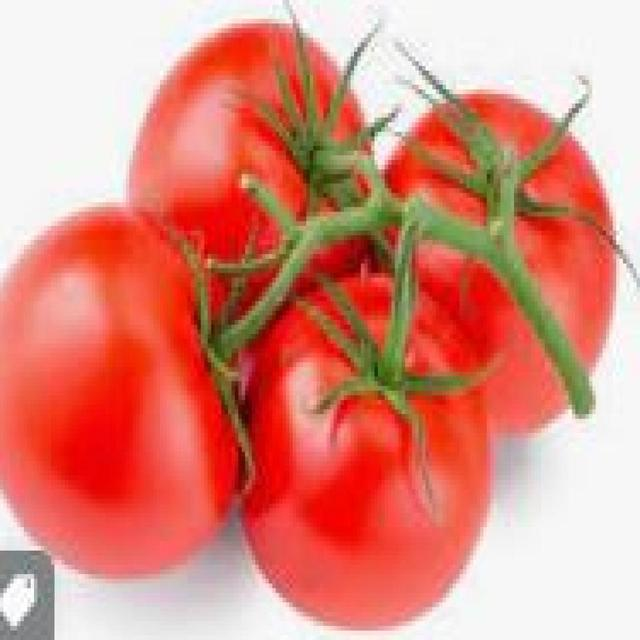Healthy Fruit: (81, 114, 337, 287)
